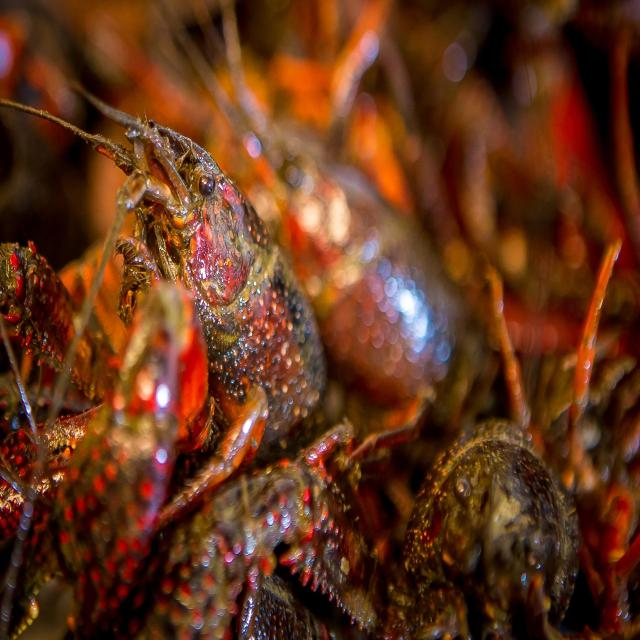Crawfish: (0, 105, 580, 638)
